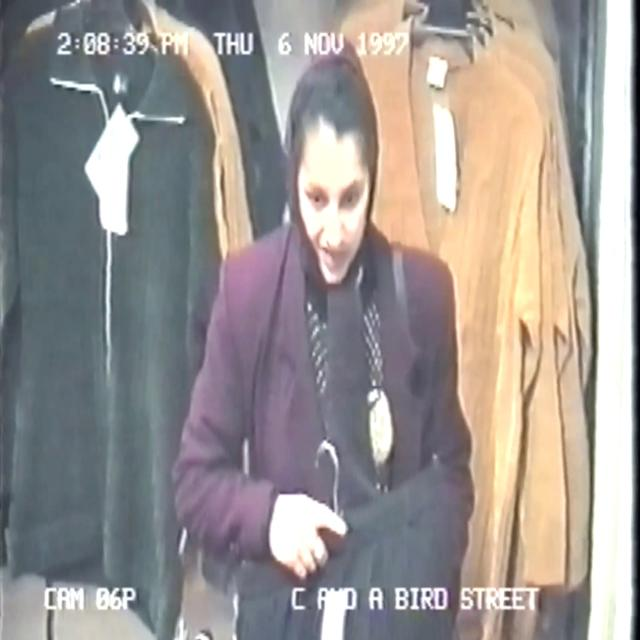Product: (228, 471, 437, 640)
shoplifting: (114, 3, 472, 640)
